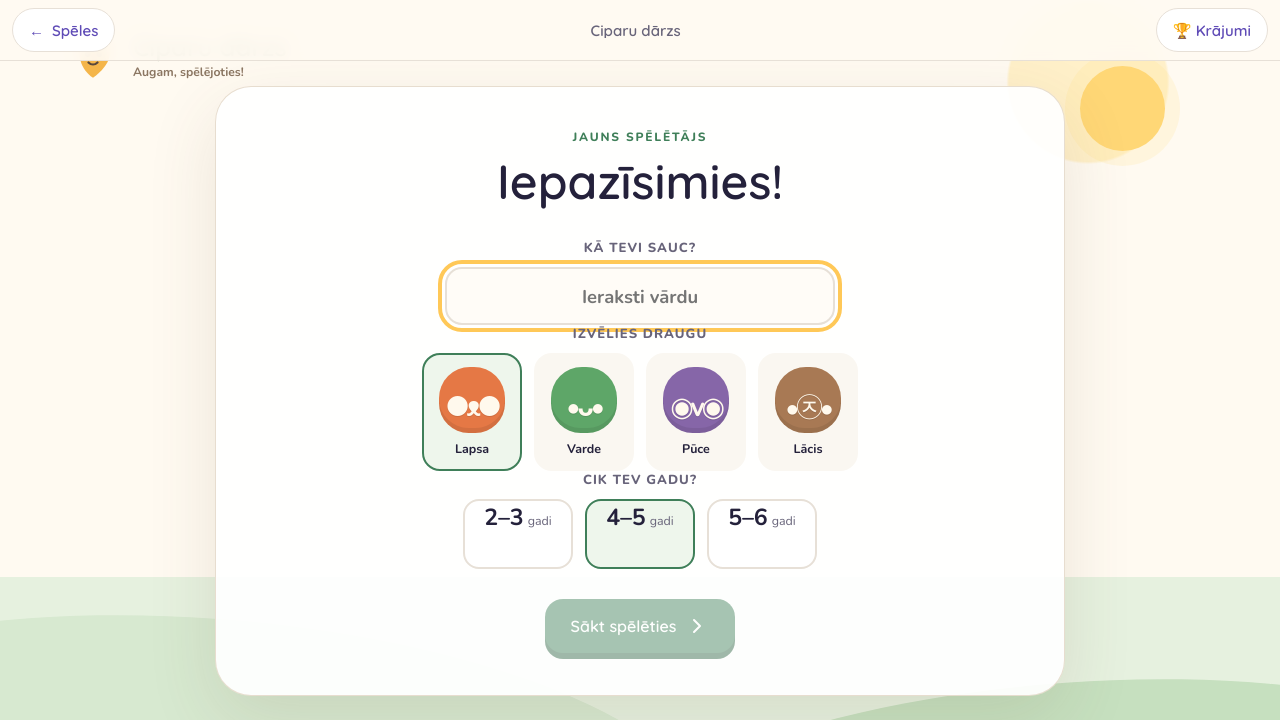
Test: app flow › creates a local child profile and shows all games
Type "Lote" into the field labelled "Kā tevi sauc?" at (640, 296), box [445,267,835,325]
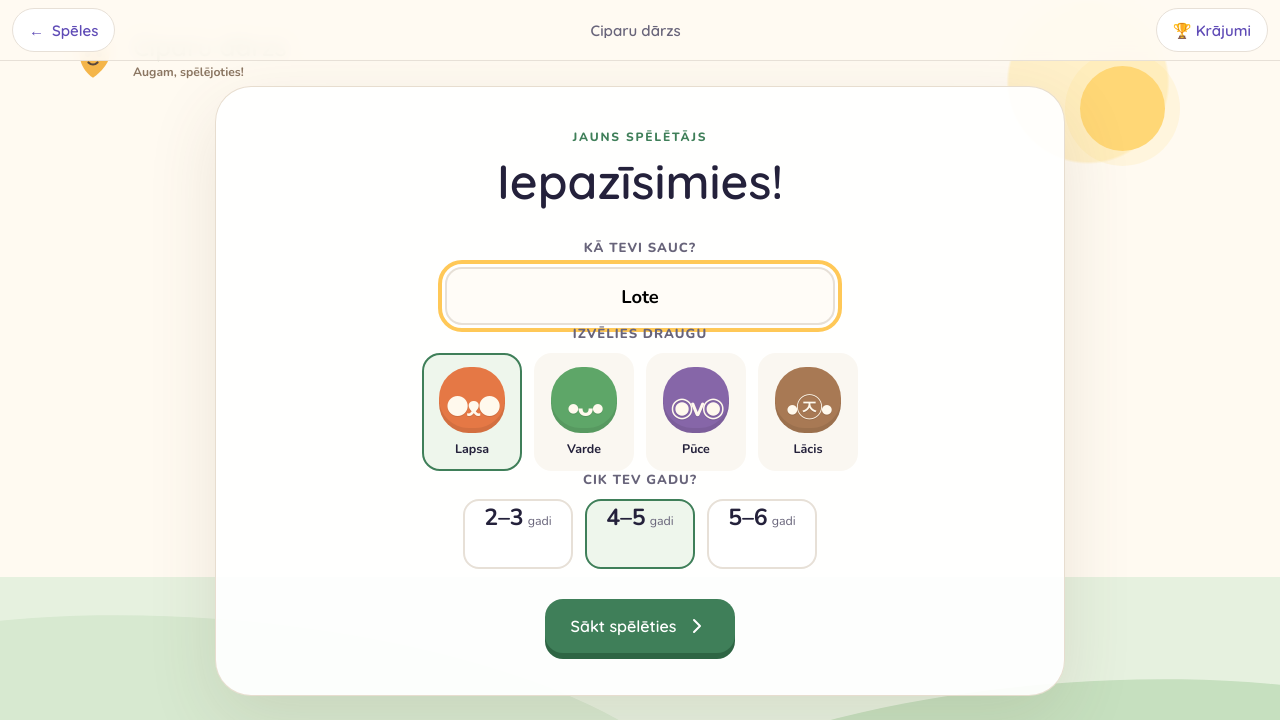
Click the button "Sākt spēlēties" at (640, 626), box [545,599,735,653]
(page scrolled)
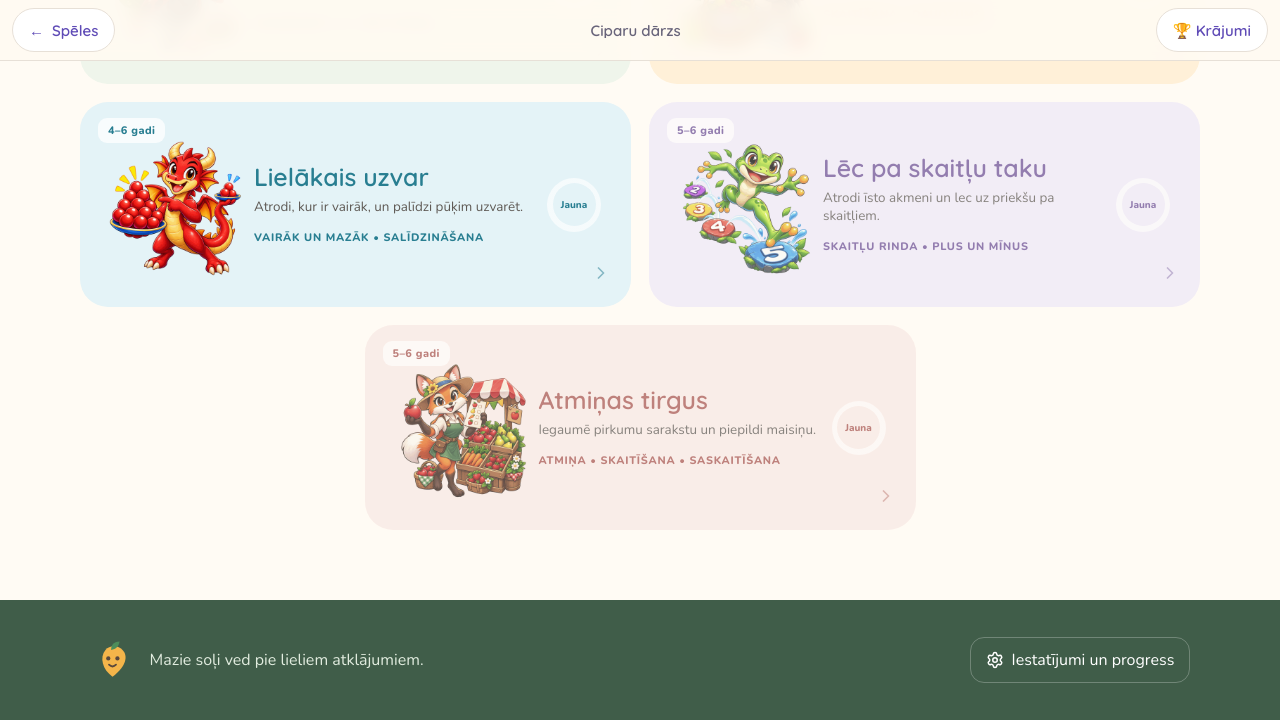
Expected: the text "Atmiņas tirgus" is shown, [538,384,708,415]
